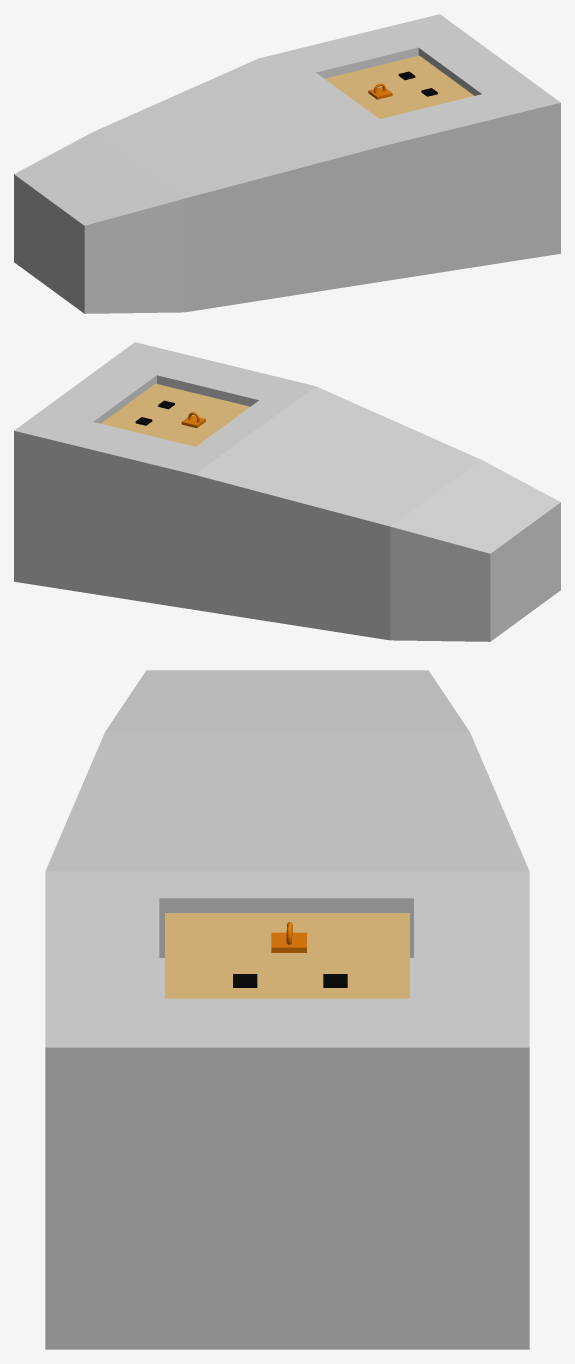
Rendered from Baby.fbx.
3 views of the same model, one above another, from view 1: azimuth 30°, elevation 25°; view 2: azimuth 150°, elevation 25°; view 3: azimuth 270°, elevation 25° (orthographic). The views are drawn at different scales.
Visible parts, largest first — view 1: Cube, Cube.001; view 2: Cube, Cube.001; view 3: Cube, Cube.001, Cube.004.
Part boxes in pixels (<box>): Cube: <box>14,14,560,313</box>; Cube.001: <box>325,55,474,118</box>; Cube: <box>14,342,560,641</box>; Cube.001: <box>101,383,249,446</box>; Cube: <box>45,670,529,1349</box>; Cube.001: <box>165,913,409,998</box>; Cube.004: <box>271,922,306,952</box>.
Size of the model in its own units: 625 by 205 by 291.
